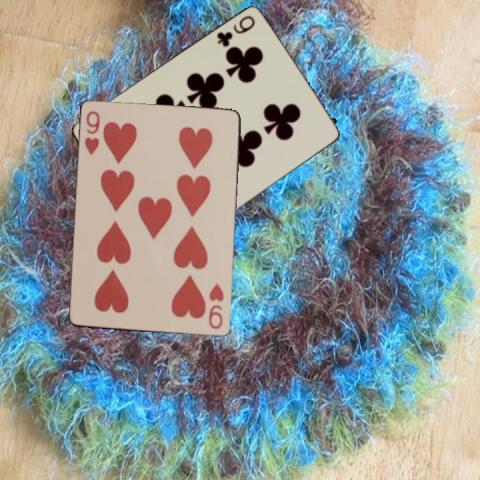9c: (213, 13, 257, 49)
9h: (206, 280, 225, 331), (82, 108, 101, 157)
